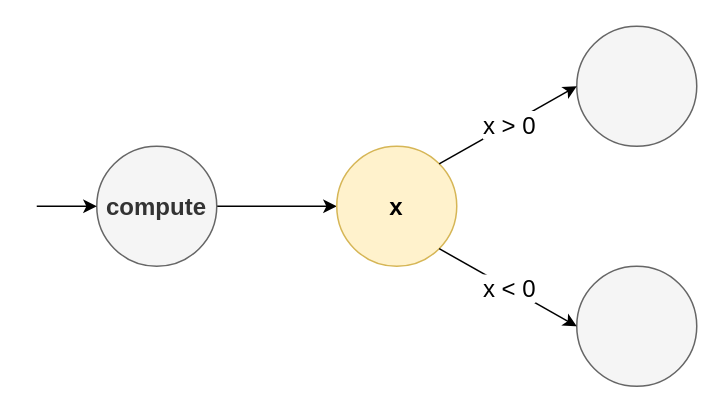
The diagram is 723 pixels wide and 413 high, and some of its shapes have lost their labels. The centre of each missing label's shape, as x and y in pixels:
"add" belongs at (x=636, y=85).
"subtract" belongs at (x=636, y=325).
